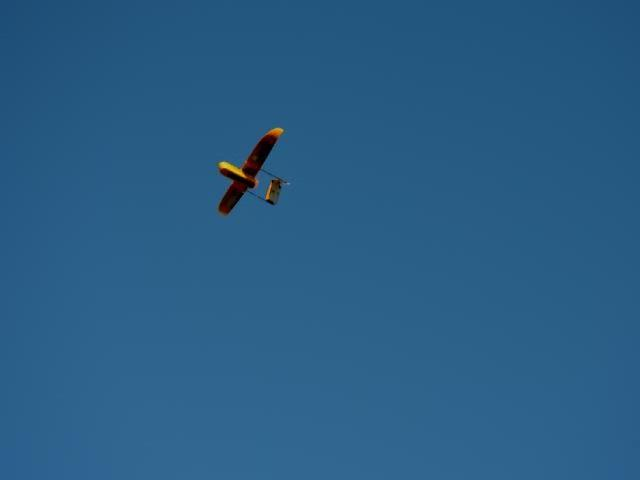iha: (209, 124, 295, 223)
